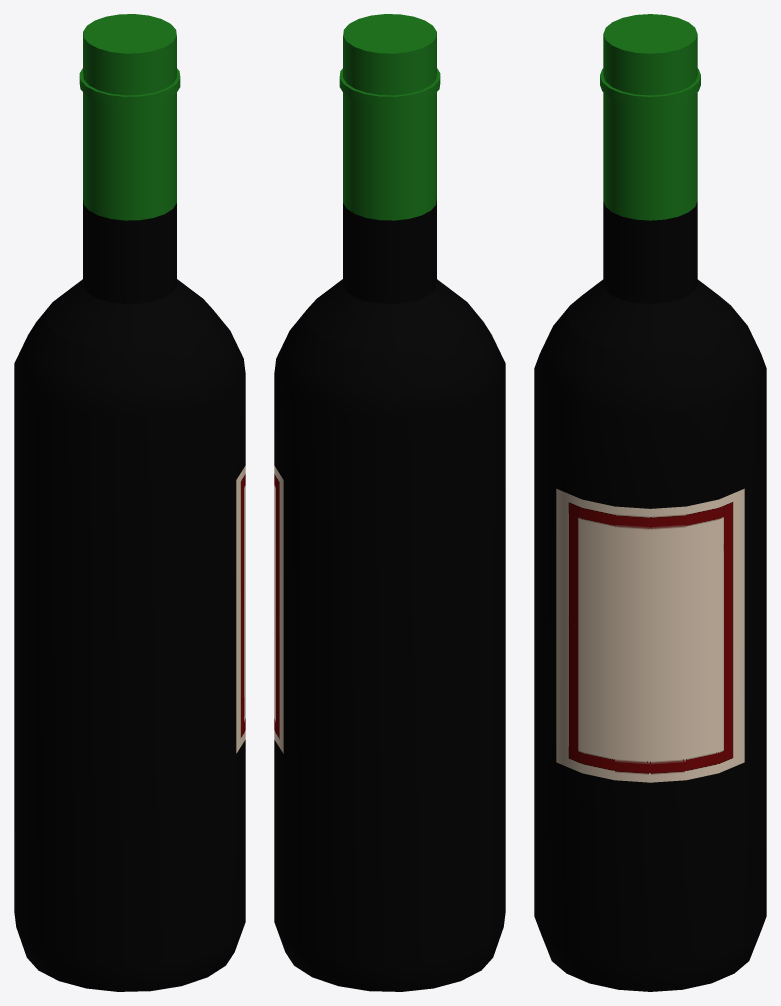
Rendered from wineBottleTall.fbx.
3 views of the same model, side by side, from view 1: azimuth 30°, elevation 25°; view 2: azimuth 150°, elevation 25°; view 3: azimuth 270°, elevation 25° (orthographic).
Parts seen in each view (by area): view 1: pCylinder1; view 2: pCylinder1; view 3: pCylinder1.
Boxes of the visible parts, x1=… form: pCylinder1: x1=14, y1=14, x2=245, y2=991; pCylinder1: x1=274, y1=14, x2=505, y2=991; pCylinder1: x1=534, y1=14, x2=766, y2=991.
Bounding box in the file's own units: 0.695 × 3.01 × 0.695.
3 materials, 1 textured.
